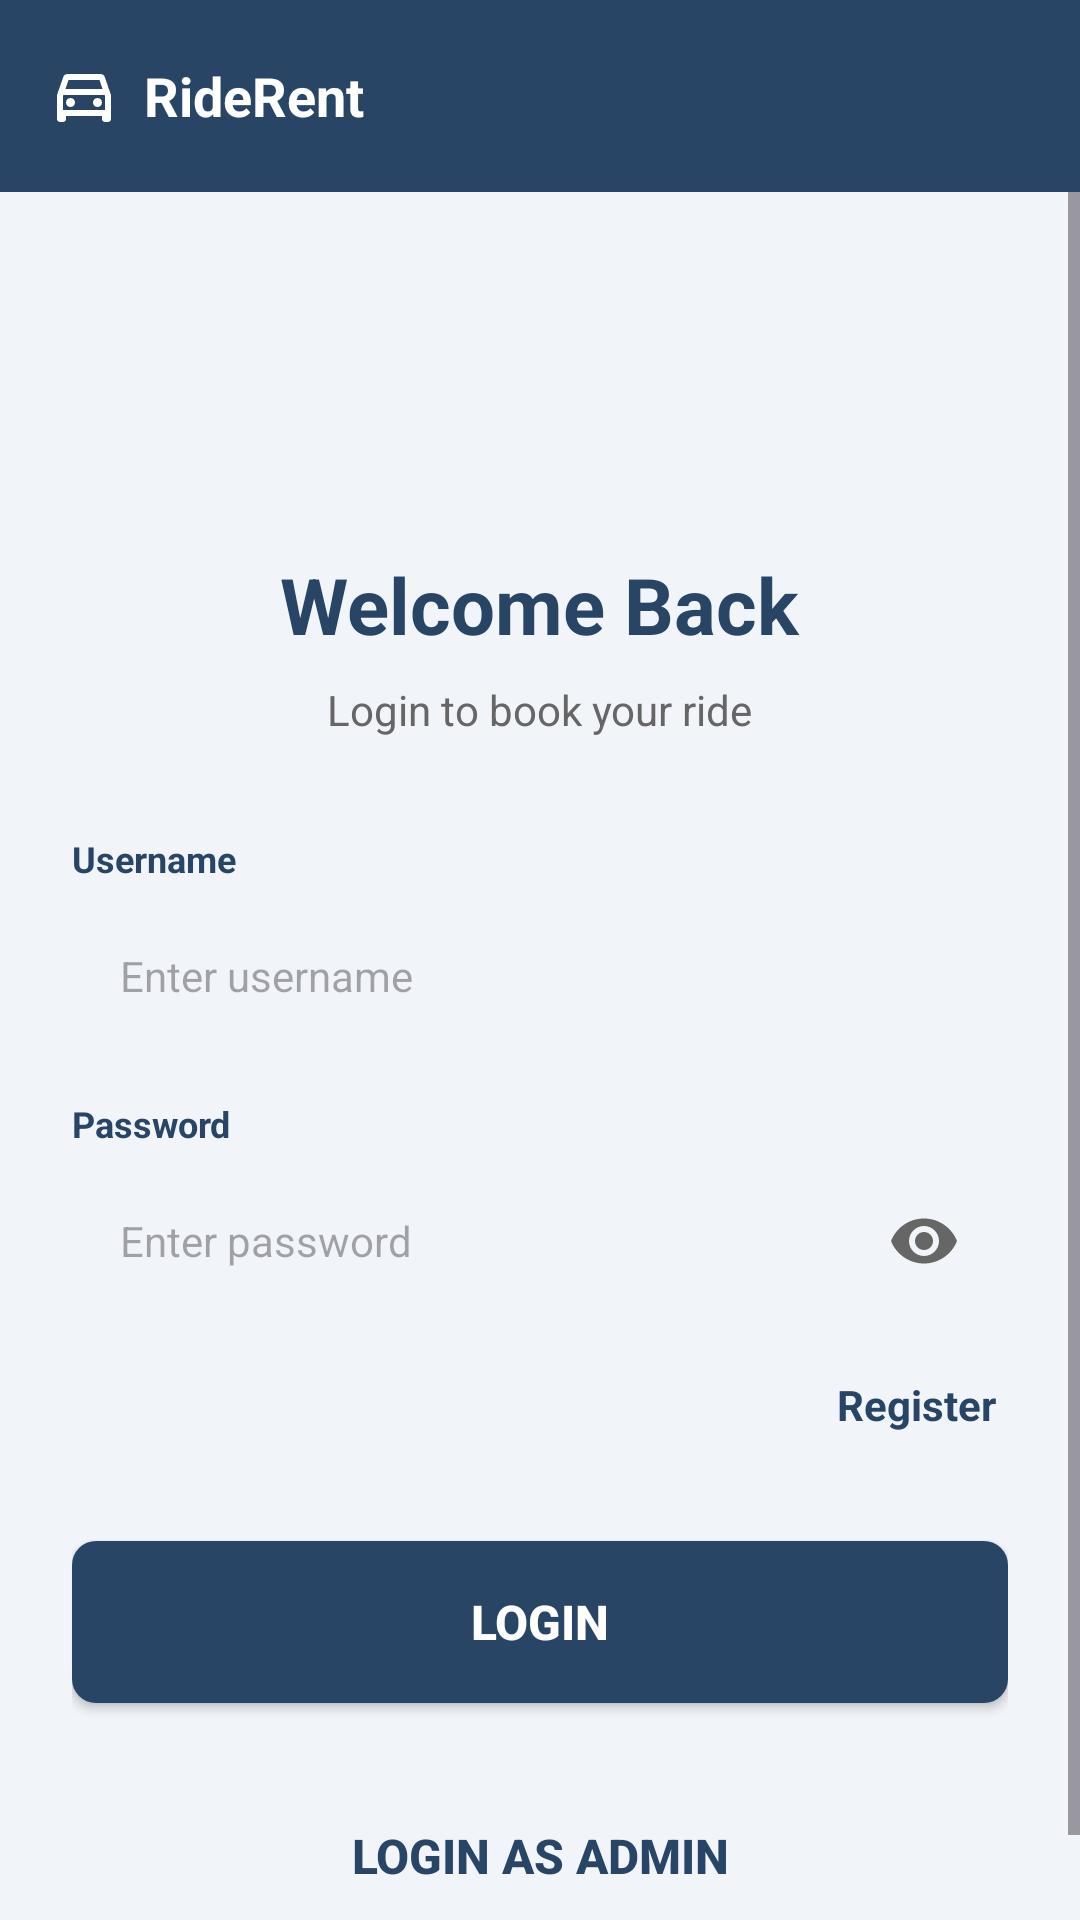

Named icons in this screenshot (1080*1920) and their centers, [x,y]:
vehicle: [84,98]
